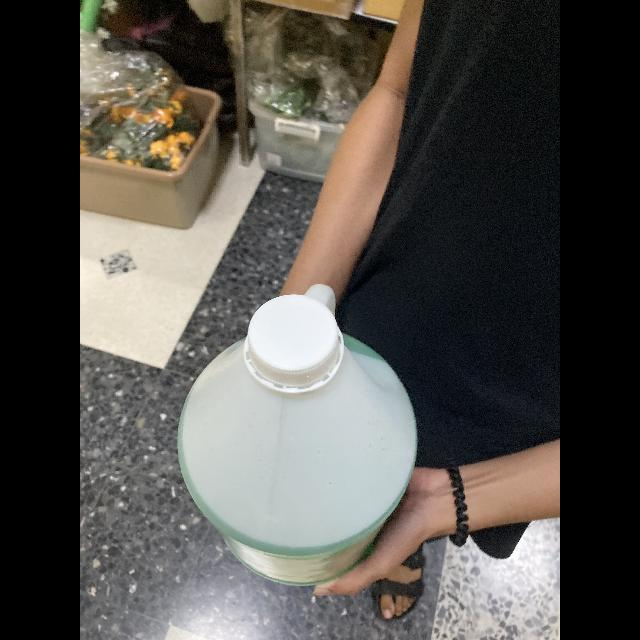chemical_plastic_gallon: (179, 284, 417, 588)
